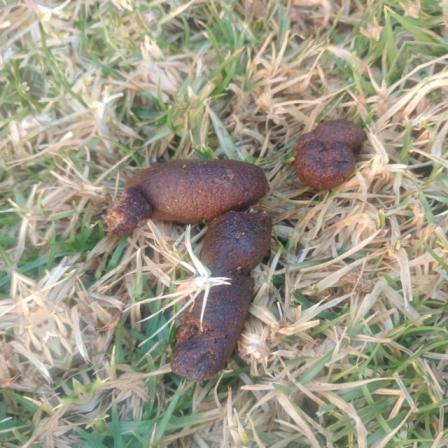dog-poop: (106, 163, 268, 384), (288, 117, 364, 187)
